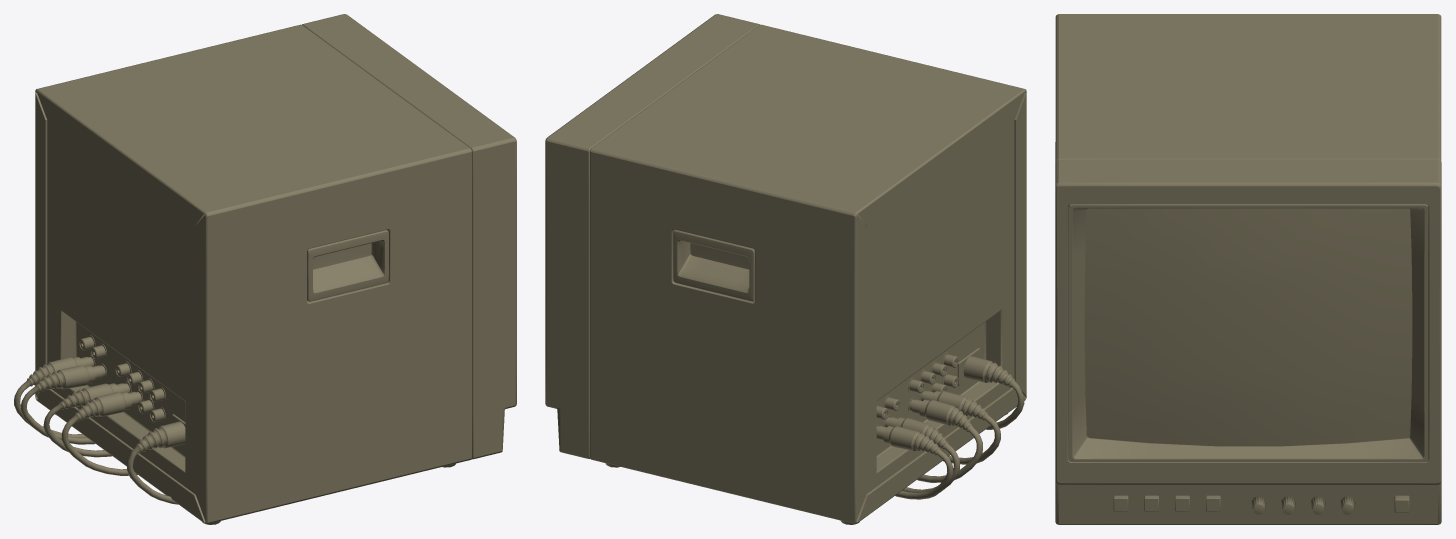
The model's file is monitor.glb.
The picture shows the model from 3 angles, left to right: view 1: azimuth 30°, elevation 25°; view 2: azimuth 150°, elevation 25°; view 3: azimuth 270°, elevation 25°; orthographic projection. The views are drawn at different scales.
Parts seen in each view (by area): view 1: TV_CCTV_02; view 2: TV_CCTV_02; view 3: TV_CCTV_02.
Boxes of the visible parts, <box> form: TV_CCTV_02: <box>14,14,516,524</box>; TV_CCTV_02: <box>545,14,1026,524</box>; TV_CCTV_02: <box>1055,14,1441,524</box>.
Size of the model in its own units: 48.49 by 40.23 by 39.04.
